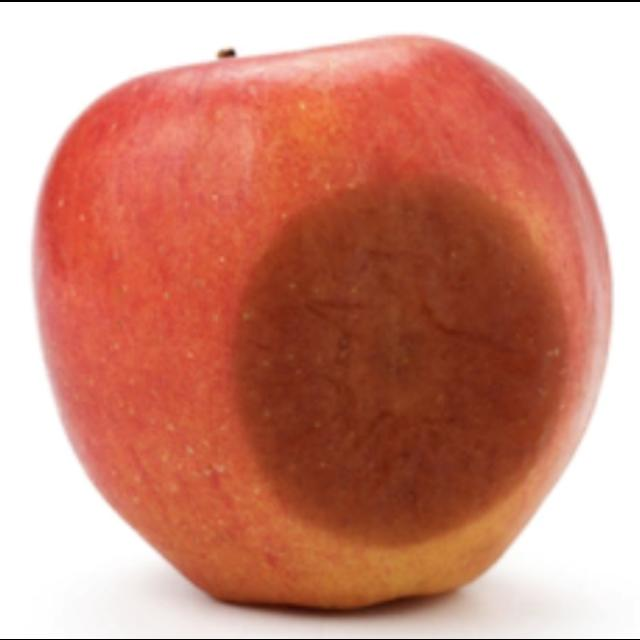Apel Tidak Segar: (8, 17, 618, 616)
